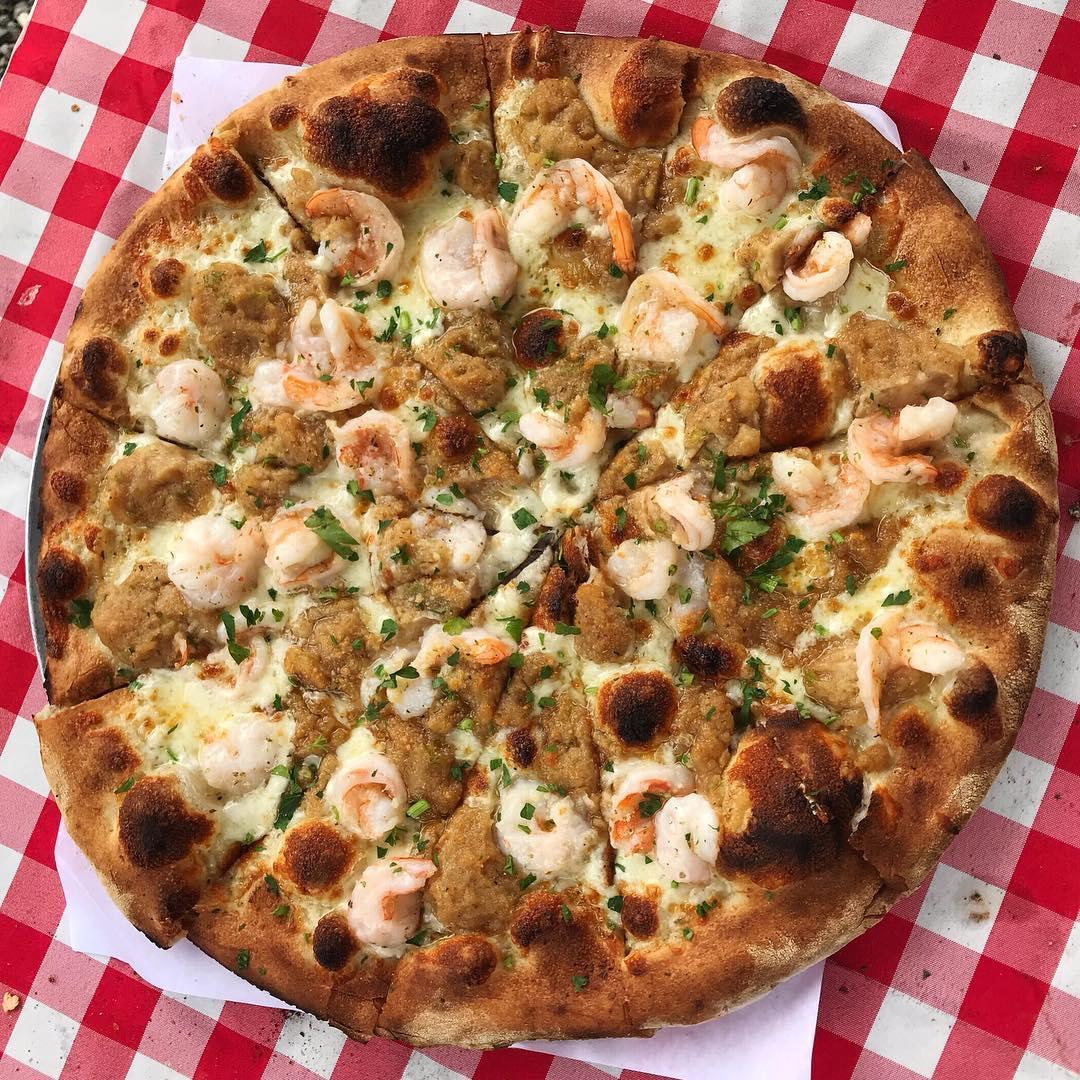Pizza: (23, 23, 1063, 1053)
